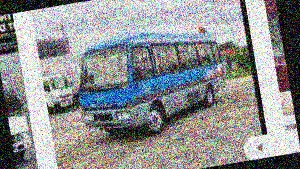bus: (69, 17, 234, 146)
